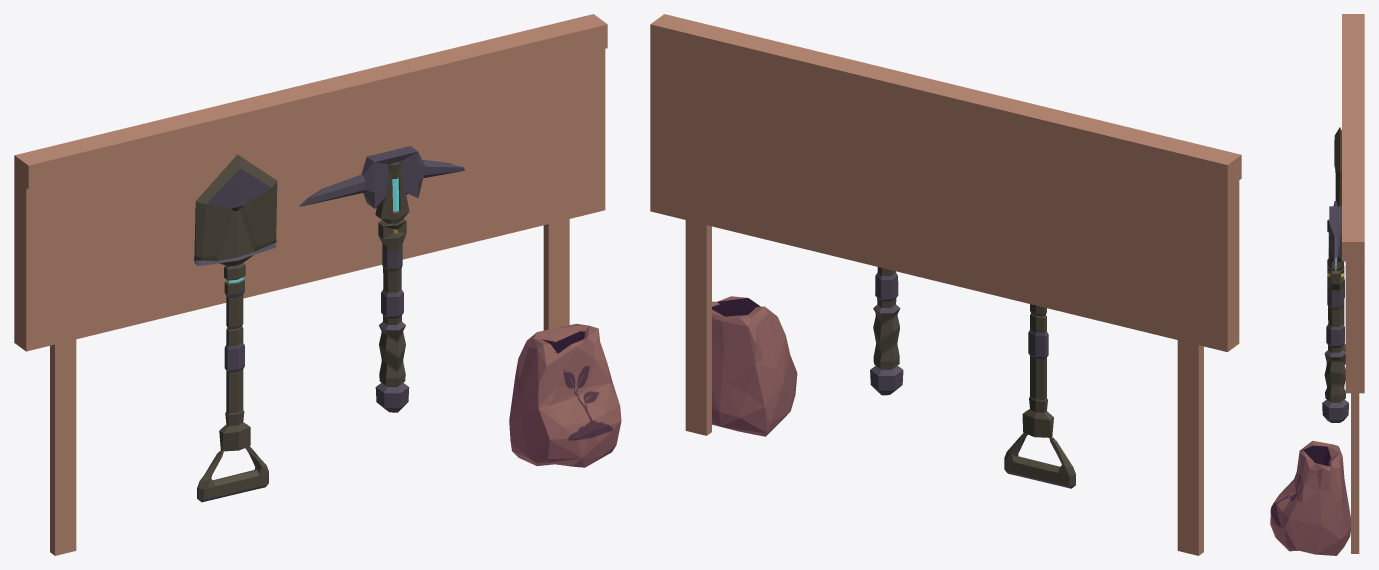
Rendered from tools.glb.
3 renders of one model, left to right at view 1: azimuth 30°, elevation 25°; view 2: azimuth 150°, elevation 25°; view 3: azimuth 270°, elevation 25°, orthographic. The views are drawn at different scales.
Parts seen in each view (by area): view 1: Tooltip, Seeds, Shovel, MiningPick; view 2: Tooltip, Seeds, Shovel, MiningPick; view 3: Tooltip, Seeds, MiningPick, Shovel.
Part boxes in pixels (x1,y1,x2,y2): Tooltip: [14, 14, 607, 555]; Seeds: [509, 323, 621, 467]; Shovel: [194, 154, 277, 502]; MiningPick: [299, 146, 464, 412]; Tooltip: [650, 14, 1241, 555]; Seeds: [712, 296, 797, 436]; Shovel: [1004, 304, 1075, 488]; MiningPick: [870, 267, 903, 395]; Tooltip: [1342, 14, 1364, 553]; Seeds: [1270, 441, 1350, 555]; MiningPick: [1322, 201, 1348, 422]; Shovel: [1334, 127, 1345, 364].
Bounding box in the file's own units: 5.59 × 3.74 × 0.9793.
3 materials, 2 textured.
